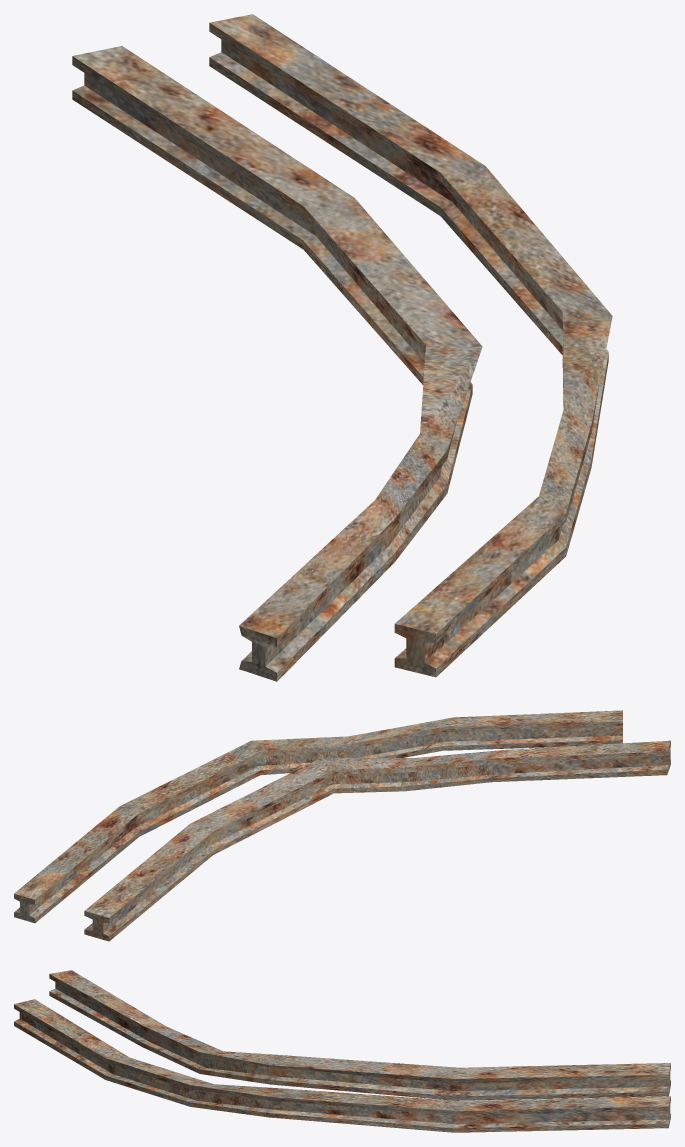
File: mineRails_45.FBX
3 views of the same model, one above another, from view 1: azimuth 30°, elevation 25°; view 2: azimuth 150°, elevation 25°; view 3: azimuth 270°, elevation 25° (orthographic). The views are drawn at different scales.
Visible parts, largest first — view 1: mineRails; view 2: mineRails; view 3: mineRails.
Part boxes in pixels (x1,y1,x2,y2): mineRails: (72, 14, 612, 681); mineRails: (14, 710, 670, 941); mineRails: (14, 970, 670, 1132).
Bounding box in the file's own units: 211 × 22.09 × 381.
Materials: 1 (1 with a texture image).
